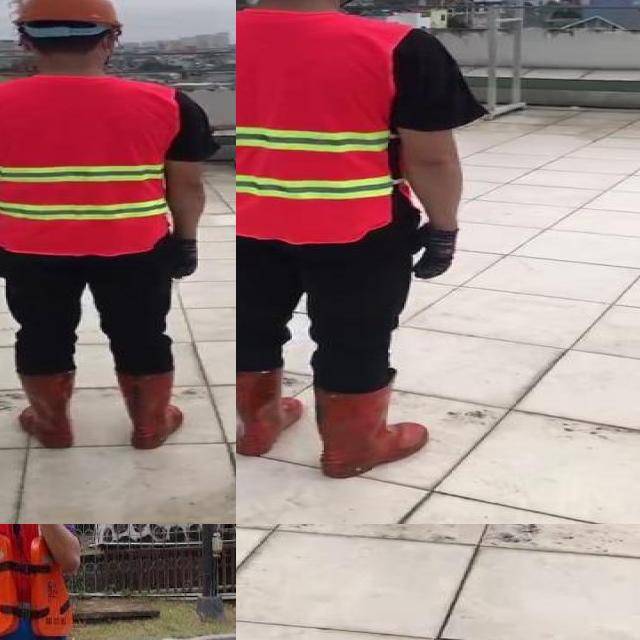boots: (315, 381, 427, 480), (236, 362, 306, 456), (116, 372, 182, 451), (15, 372, 77, 451)
hand_glove: (411, 225, 456, 281), (170, 238, 198, 278)
head_helmet: (9, 0, 119, 28)
person: (236, 0, 495, 487), (0, 0, 218, 452), (0, 524, 127, 640)
vest: (236, 12, 404, 243), (0, 77, 178, 256), (0, 524, 79, 640)
